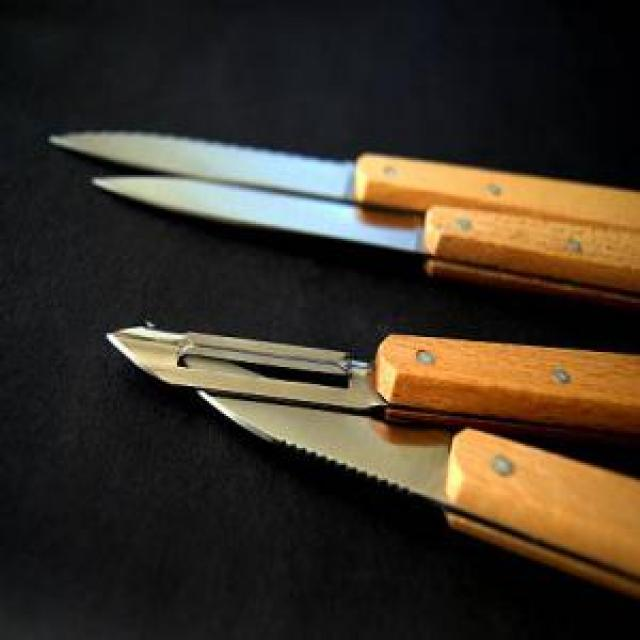knife: (198, 384, 638, 601), (94, 177, 639, 306), (47, 124, 639, 238), (100, 333, 638, 424)
